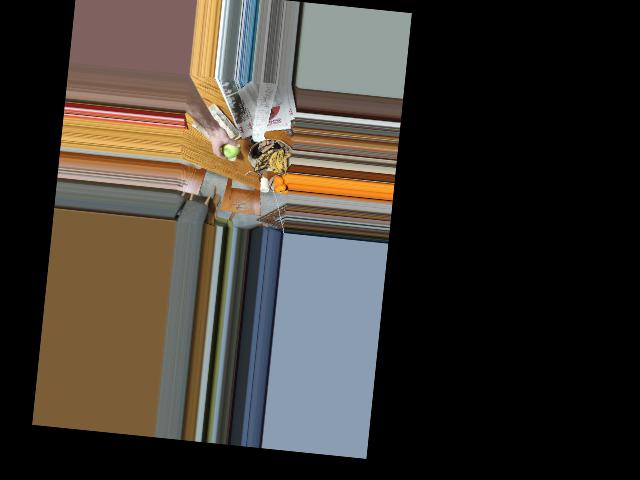apple: (216, 136, 242, 161)
